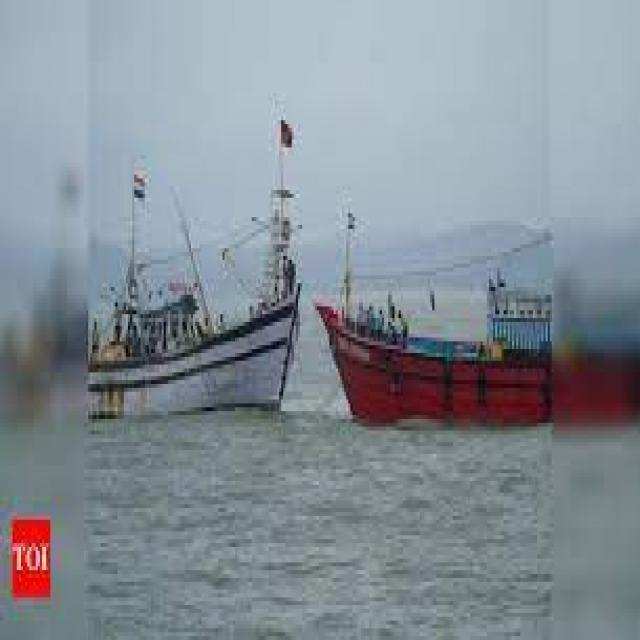Ship: (85, 102, 314, 420), (314, 183, 566, 455)
